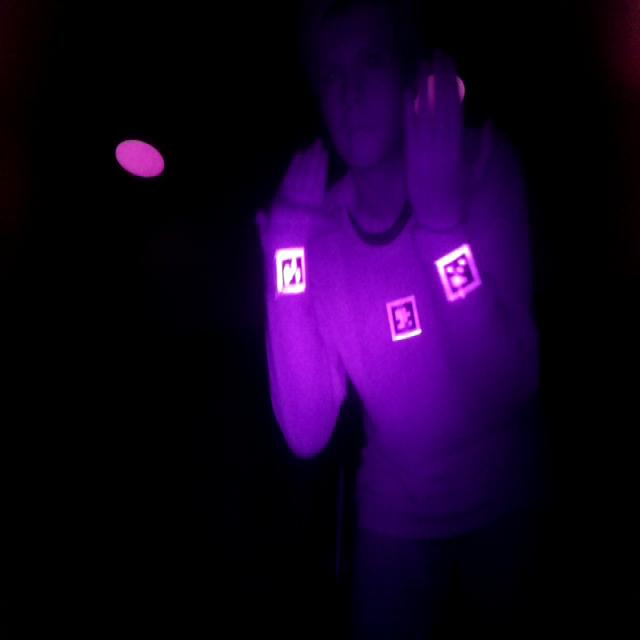Apriltags: (436, 242, 480, 300), (386, 295, 421, 341), (275, 246, 306, 294)
